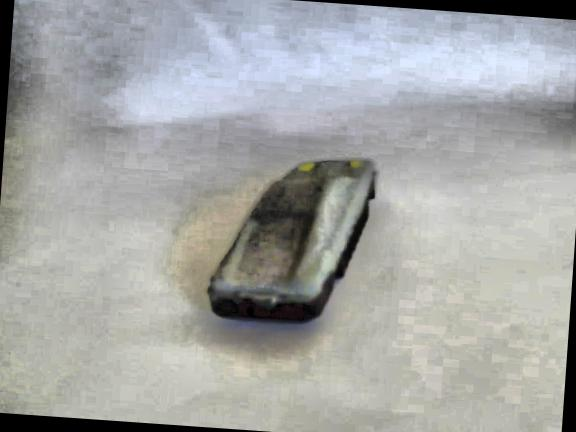normal_car: (198, 146, 380, 330)
